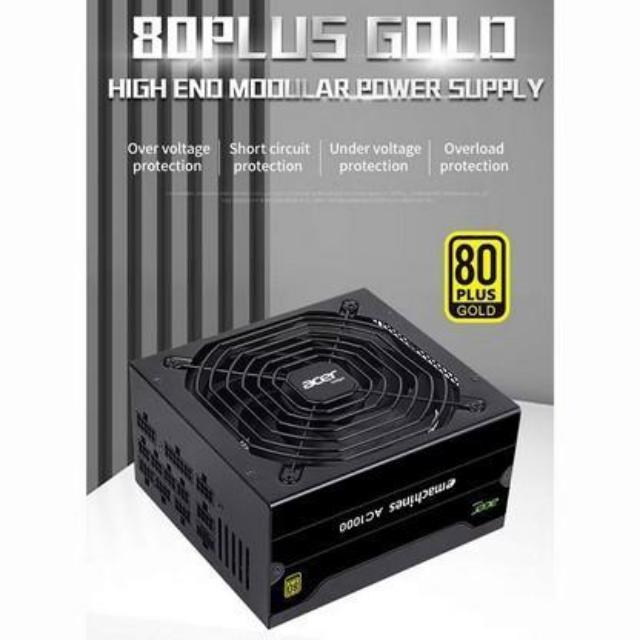PSU: (124, 283, 526, 626)
